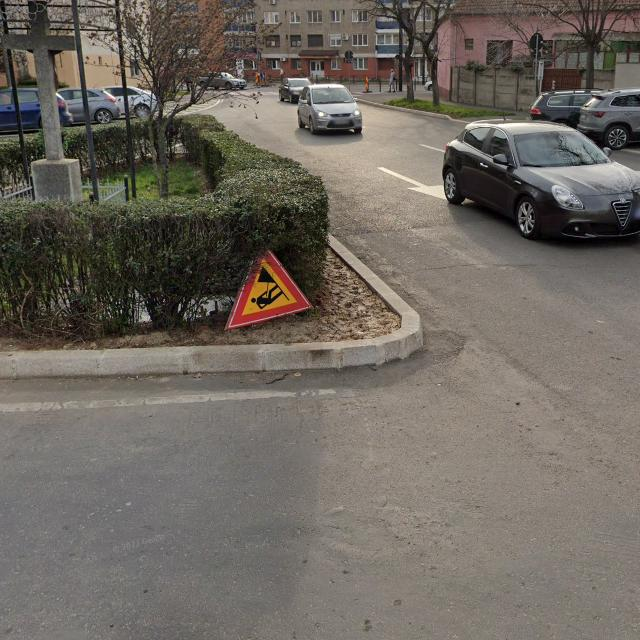warn_construction: (224, 250, 312, 330)
